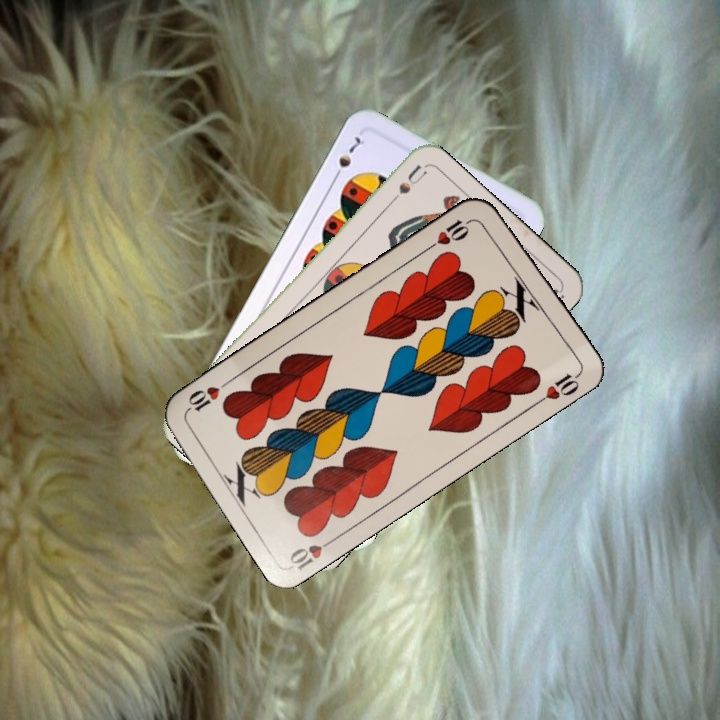H10: (285, 532, 341, 573), (424, 214, 478, 252)
S7: (328, 132, 368, 184)
SU: (381, 160, 429, 212)
